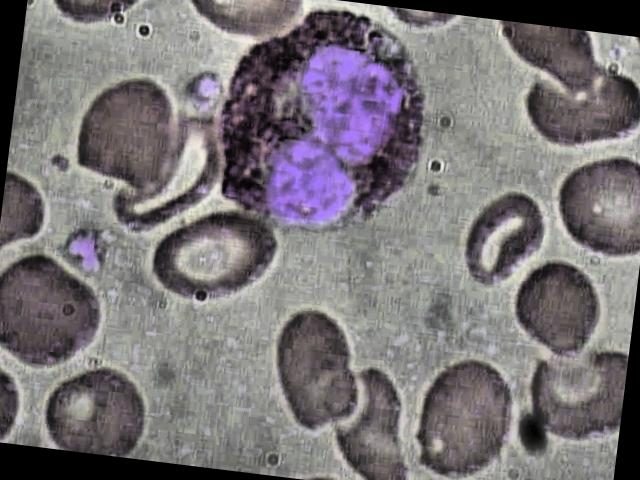Platelets: (56, 225, 115, 278), (182, 72, 225, 111)
RBC: (140, 201, 286, 316), (255, 302, 376, 438), (59, 63, 180, 198), (410, 347, 527, 480), (0, 244, 109, 382), (36, 354, 152, 458), (452, 182, 560, 293), (496, 254, 604, 365), (520, 342, 628, 452), (543, 144, 640, 261)
WBC: (202, 0, 458, 257)
